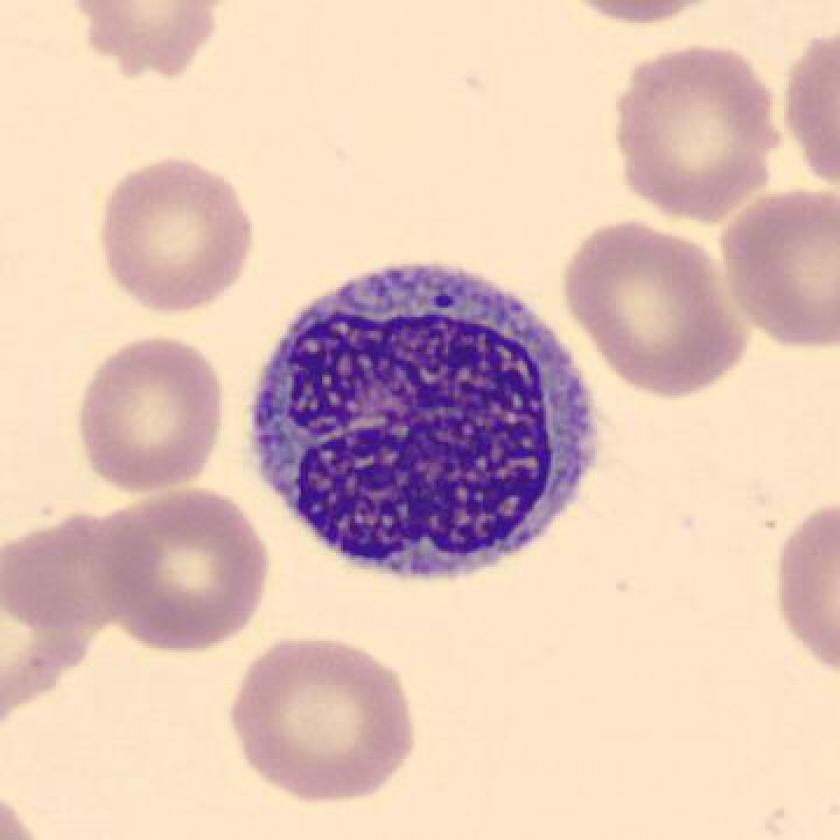monocyte: (225, 244, 617, 598)
